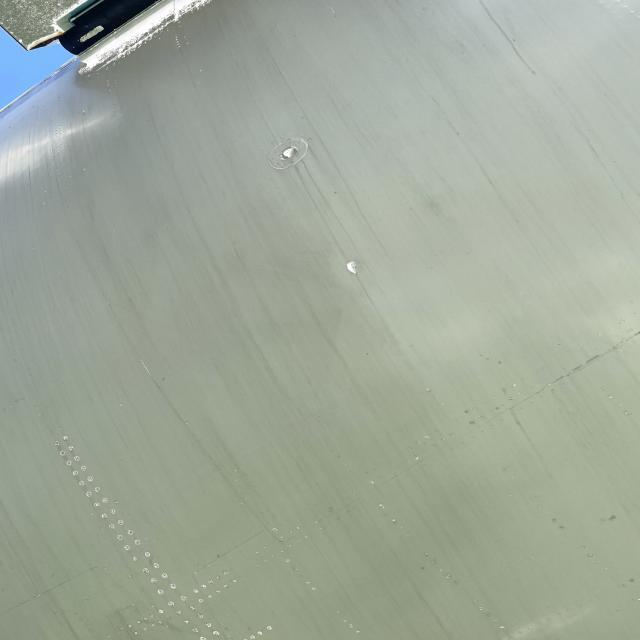crack: (134, 360, 165, 385), (343, 257, 369, 280)
